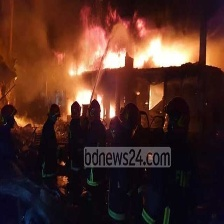smoke: (74, 43, 191, 107), (46, 2, 224, 43)
